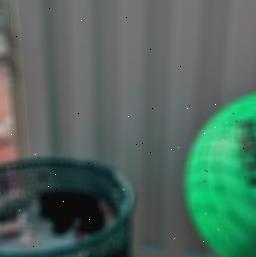algae: (185, 93, 256, 257)
